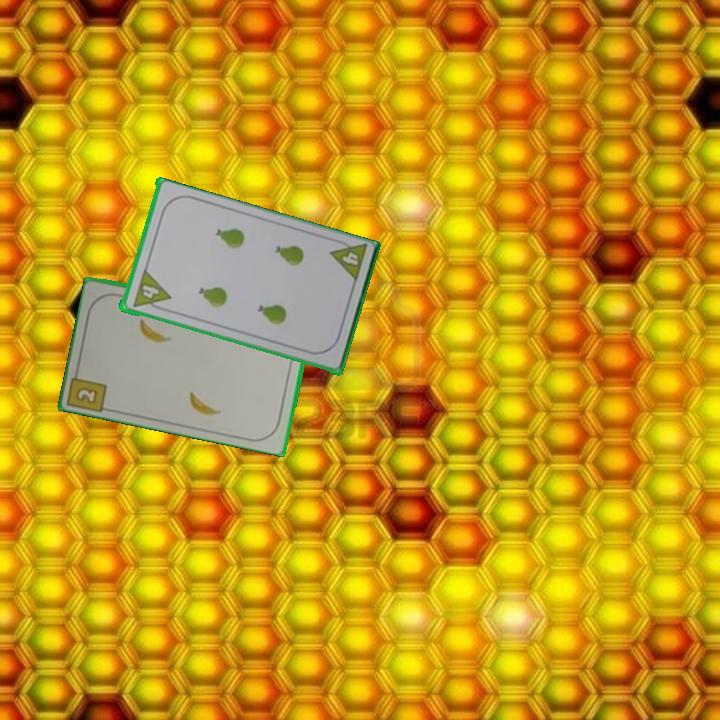2b: (66, 363, 110, 414)
4p: (326, 235, 370, 286), (129, 267, 173, 315)
